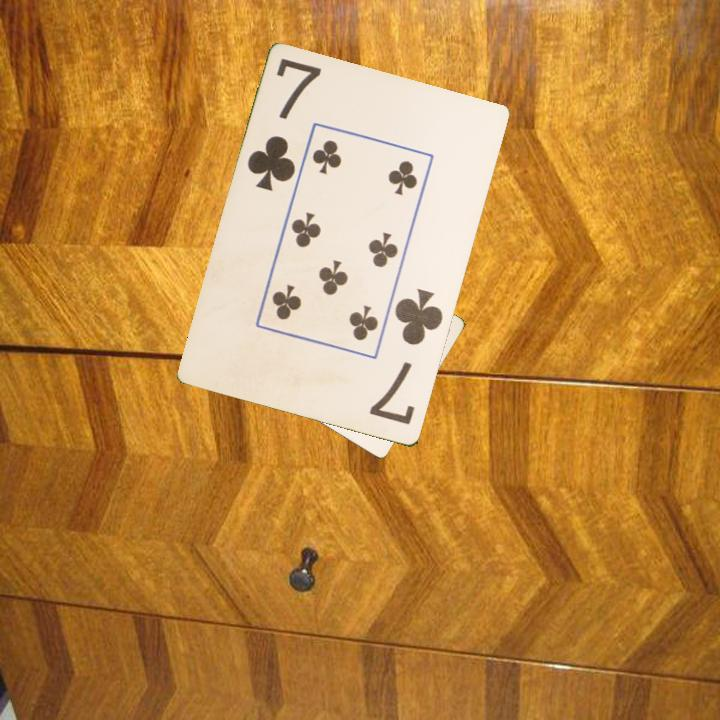7c: (366, 285, 446, 428), (244, 55, 325, 195)
